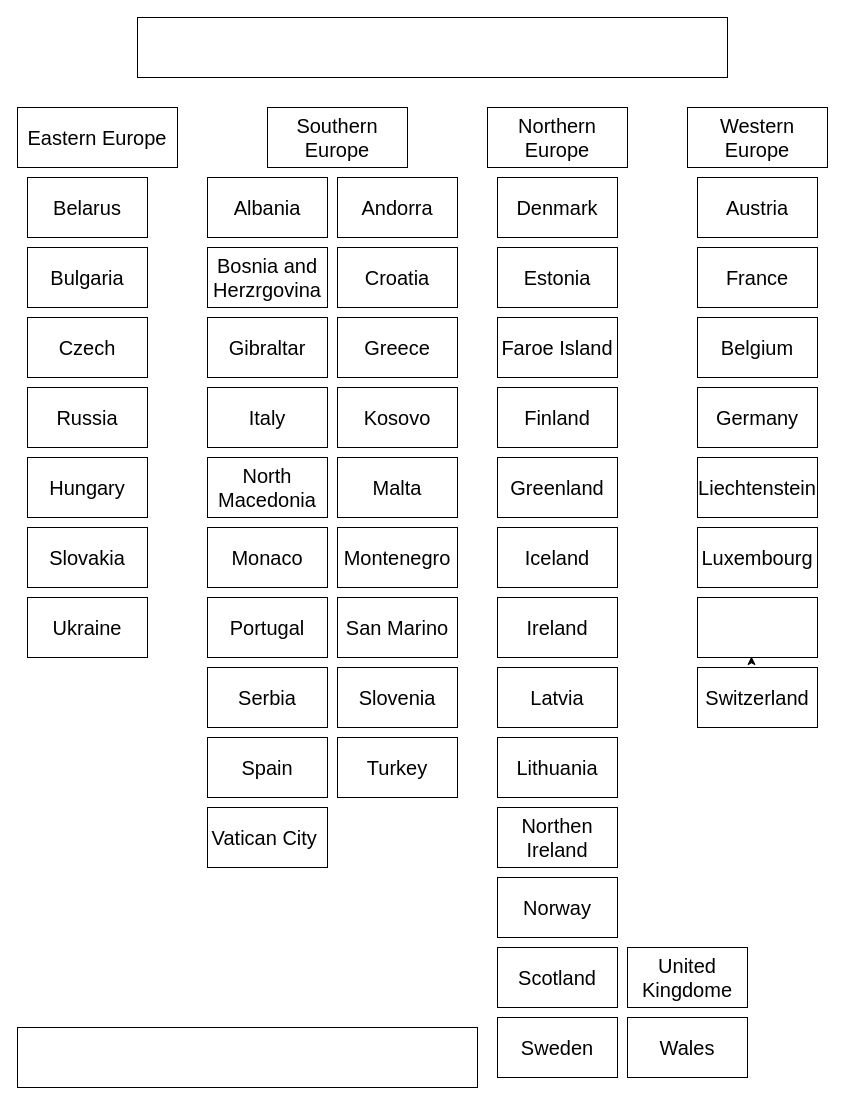
Some shapes in this 845 by 1105 pixel diagram are drawn without their labels. The centre of each missing label's shape, as x and y in pixels:
"Europe" goes at point 432,47.
"KC IS117 101 11/30/2021" goes at point 247,1057.
"Netherlands" goes at point 757,627.
